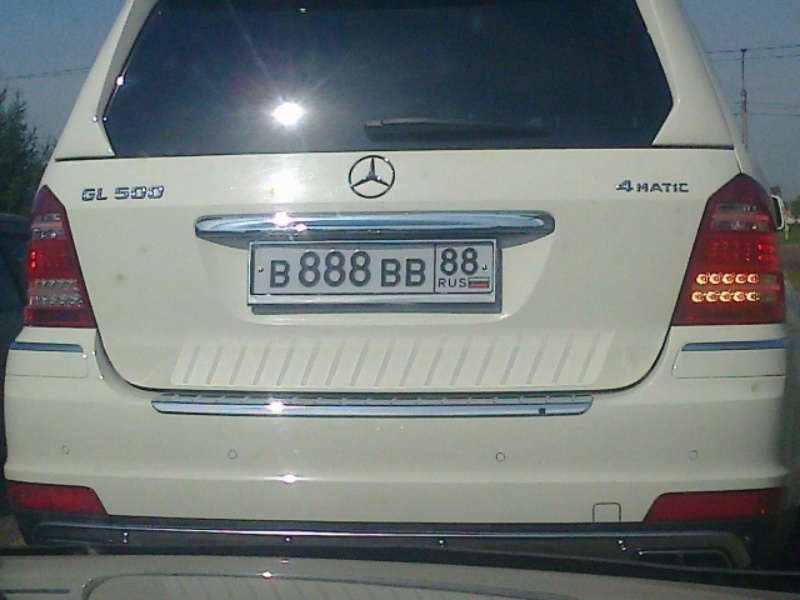car: (2, 1, 800, 549)
plate: (252, 243, 494, 291)
